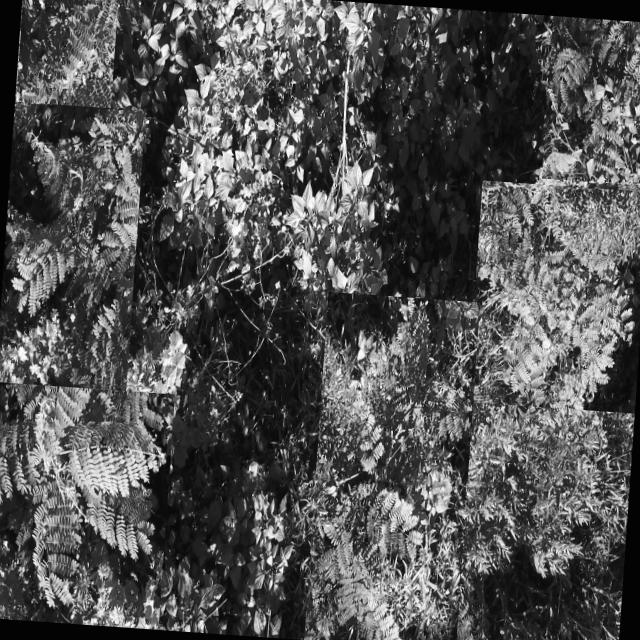Mysore-Thorn-Weed: (303, 291, 479, 640), (0, 381, 174, 629), (0, 102, 145, 398), (466, 180, 640, 413), (541, 15, 640, 185), (15, 0, 118, 107)
